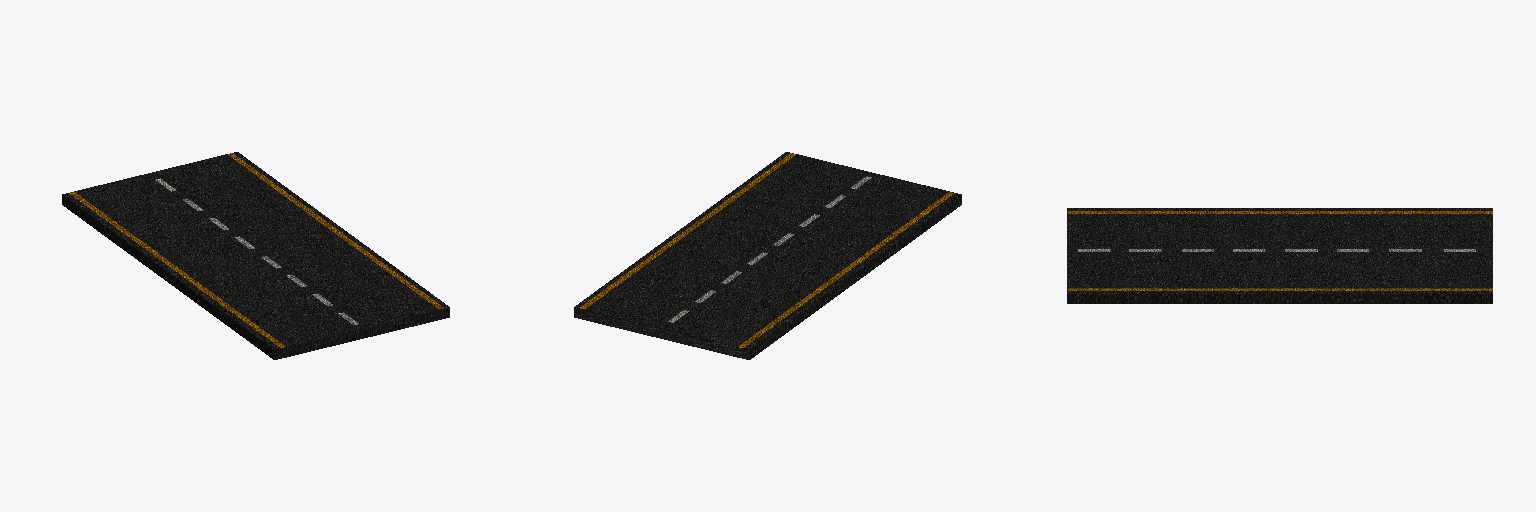
3 views of the same model, side by side, from view 1: azimuth 30°, elevation 25°; view 2: azimuth 150°, elevation 25°; view 3: azimuth 270°, elevation 25° (orthographic).
Visible parts, largest first — view 1: road; view 2: road; view 3: road.
Boxes of the visible parts, x1,y1,x2,y2 form: road: [62, 152, 449, 359]; road: [574, 152, 961, 359]; road: [1067, 208, 1492, 303].
Size of the model in its own units: 4.16 by 0.2372 by 8.73.
1 materials, 1 textured.